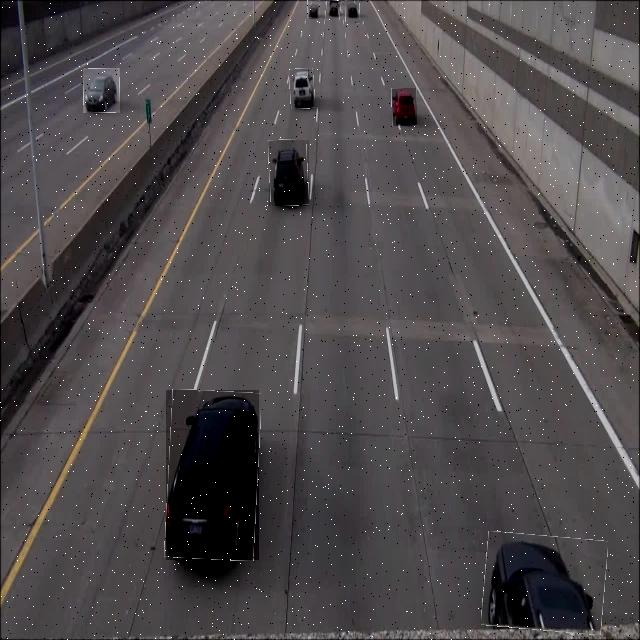Car: (166, 390, 259, 560), (483, 533, 607, 633), (269, 140, 309, 206), (83, 68, 120, 113), (290, 69, 315, 109), (392, 88, 417, 126), (346, 0, 360, 24), (325, 0, 340, 20), (307, 0, 320, 18)
